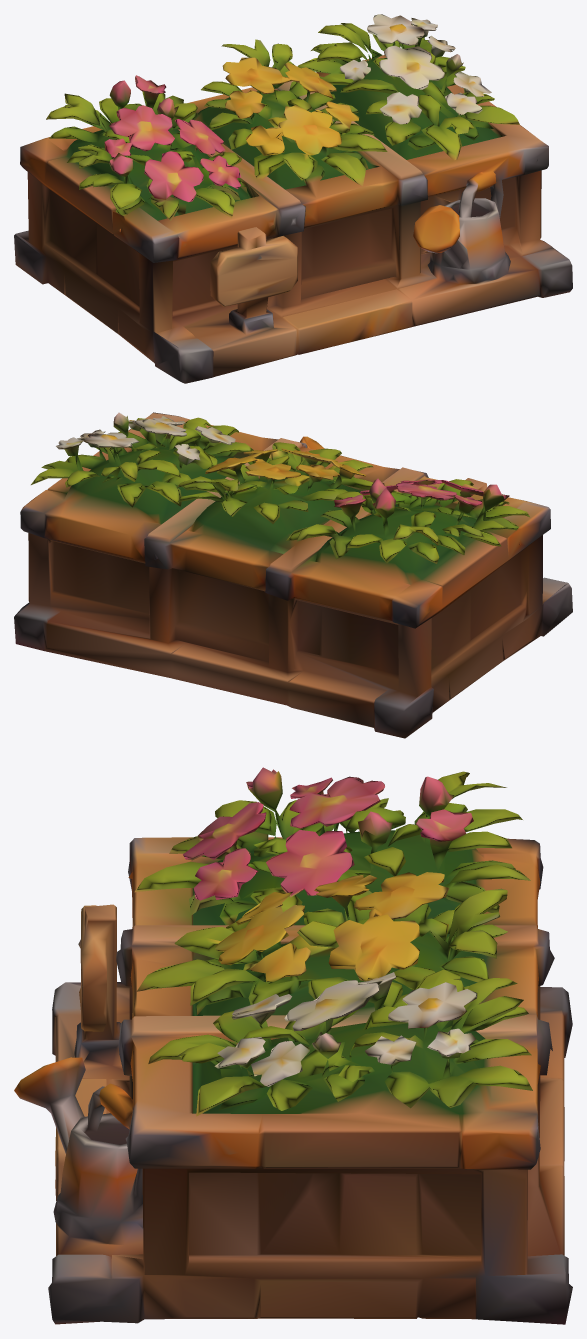
File: garden-Bmjnd8gd.glb
The picture shows the model from 3 angles, top to bottom: view 1: azimuth 30°, elevation 25°; view 2: azimuth 150°, elevation 25°; view 3: azimuth 270°, elevation 25°; orthographic projection. The views are drawn at different scales.
Parts seen in each view (by area): view 1: tripo_node_3c0bb286-5113-42e6-b193-5b576bd14cfb; view 2: tripo_node_3c0bb286-5113-42e6-b193-5b576bd14cfb; view 3: tripo_node_3c0bb286-5113-42e6-b193-5b576bd14cfb.
Part boxes in pixels (bbox=[...]): tripo_node_3c0bb286-5113-42e6-b193-5b576bd14cfb: bbox=[14, 14, 572, 383]; tripo_node_3c0bb286-5113-42e6-b193-5b576bd14cfb: bbox=[14, 412, 572, 738]; tripo_node_3c0bb286-5113-42e6-b193-5b576bd14cfb: bbox=[14, 767, 572, 1324].
Size of the model in its own units: 0.9764 by 0.454 by 0.7484.
